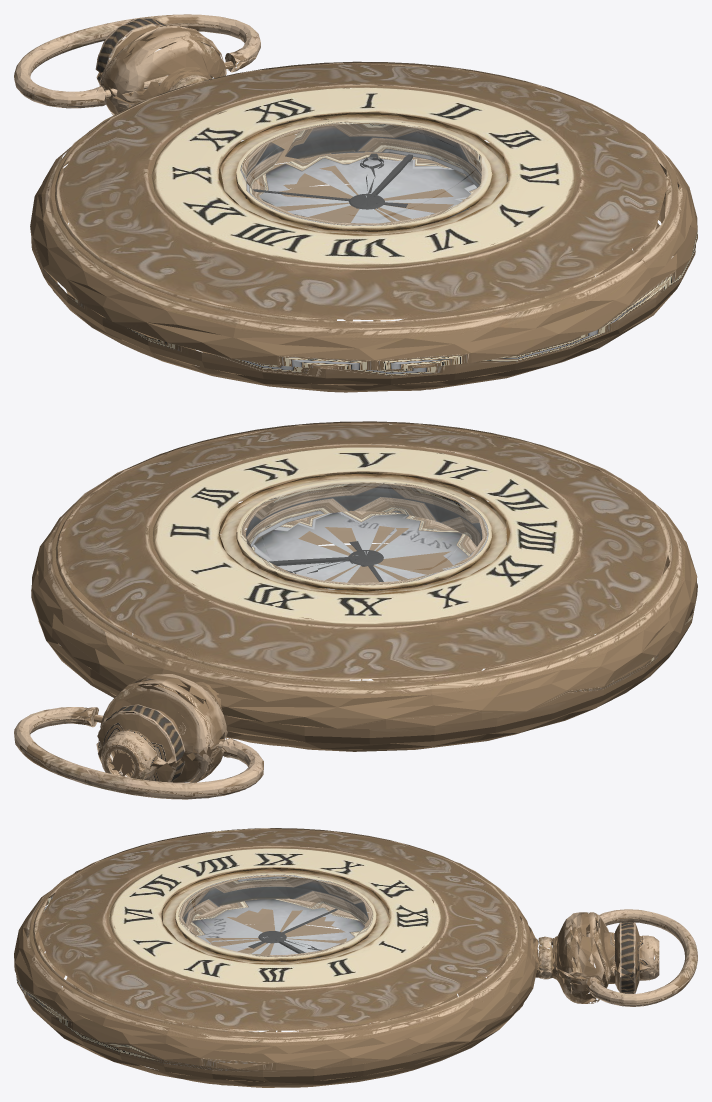
The model's file is PocketWatchVintage.obj.
3 renders of one model, top to bottom at view 1: azimuth 30°, elevation 25°; view 2: azimuth 150°, elevation 25°; view 3: azimuth 270°, elevation 25°, orthographic. The views are drawn at different scales.
Visible parts, largest first — view 1: part4, part3; view 2: part4, part3; view 3: part4, part3.
Part boxes in pixels (x1=…): part4: x1=14, y1=14, x2=697, y2=392; part3: x1=241, y1=121, x2=487, y2=225; part4: x1=14, y1=421, x2=697, y2=799; part3: x1=242, y1=481, x2=487, y2=584; part4: x1=14, y1=828, x2=697, y2=1087; part3: x1=179, y1=875, x2=372, y2=956.
Bounding box in the file's own units: 0.0613 × 0.0136 × 0.0799.
Materials: 3 (1 with a texture image).
